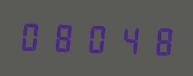eight: (49, 18, 79, 55), (142, 21, 172, 58)
four: (111, 20, 141, 57)
zero: (18, 17, 48, 54), (80, 19, 110, 56)
